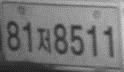1: (102, 25, 115, 58), (87, 24, 98, 57), (22, 22, 33, 53)
5: (69, 23, 85, 56)
8: (53, 23, 69, 55), (6, 20, 21, 51)
저: (36, 27, 51, 54)
